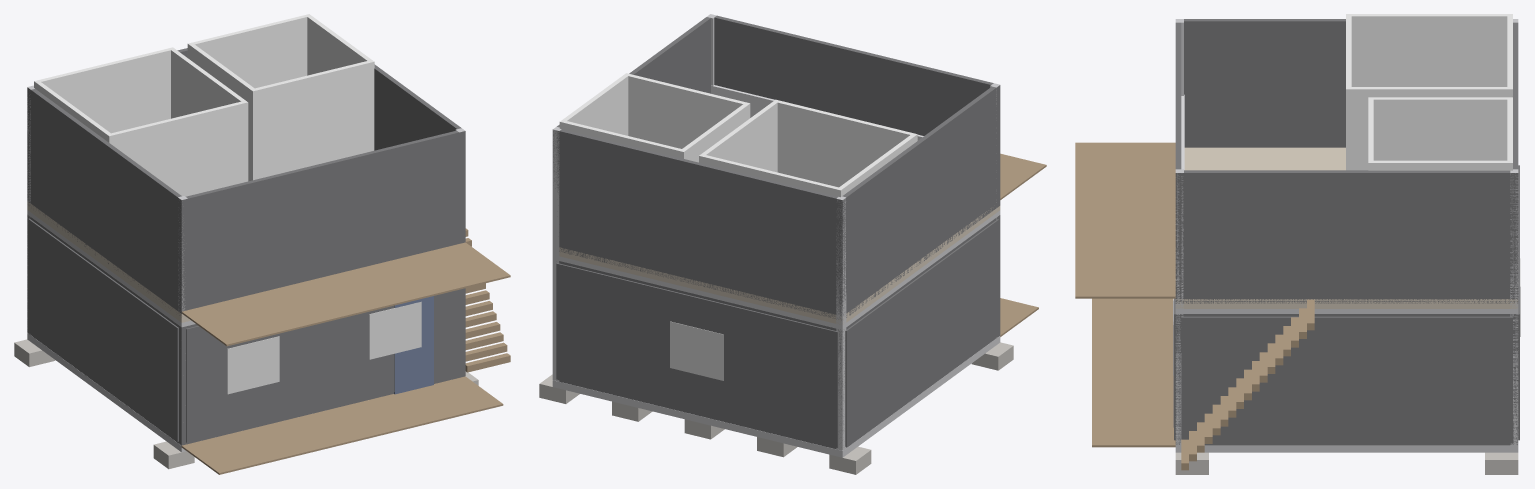
Rendered from Duplex-20-Base-CharcoalSilver-LOD3.glb.
3 renders of one model, left to right at view 1: azimuth 30°, elevation 25°; view 2: azimuth 150°, elevation 25°; view 3: azimuth 270°, elevation 25°, orthographic. The views are drawn at different scales.
Parts seen in each view (by area): view 1: ExteriorShellUpper, ExteriorPanelsStandard, StudyUpper, BedroomUpper, BalconyUpper, BalconyGround, WindowsStandard, StaircaseExternal, ExteriorShell, EntryDoor, FoundationBlocks, FloorUpper (+3 smaller); view 2: ExteriorShellUpper, ExteriorPanelsStandard, BedroomUpper, StudyUpper, FloorUpper, VerticalStructure, FoundationBlocks, BaseFrame, ExteriorShell, WindowsStandard, TopFrame, BalconyUpper (+2 smaller); view 3: ExteriorShellUpper, ExteriorPanelsStandard, BalconyUpper, BedroomUpper, BalconyGround, StudyUpper, FloorUpper, StaircaseExternal, ExteriorShell, VerticalStructure, BaseFrame, TopFrame (+1 smaller).
Boxes of the visible parts, x1,y1,x2,y2 form: ExteriorShellUpper: [27, 48, 465, 315]; ExteriorPanelsStandard: [28, 218, 461, 442]; StudyUpper: [187, 14, 374, 181]; BedroomUpper: [34, 47, 248, 196]; BalconyUpper: [181, 242, 510, 346]; BalconyGround: [181, 376, 503, 474]; WindowsStandard: [227, 301, 421, 394]; StaircaseExternal: [465, 228, 510, 372]; ExteriorShell: [27, 214, 465, 445]; EntryDoor: [394, 296, 433, 394]; FoundationBlocks: [14, 339, 478, 469]; FloorUpper: [27, 201, 190, 322]; ExteriorShellUpper: [553, 15, 1000, 320]; ExteriorPanelsStandard: [556, 219, 999, 447]; BedroomUpper: [699, 99, 917, 197]; StudyUpper: [559, 73, 750, 162]; FloorUpper: [559, 206, 1000, 324]; VerticalStructure: [552, 14, 999, 450]; FoundationBlocks: [539, 342, 1013, 474]; BaseFrame: [552, 336, 1000, 457]; ExteriorShell: [559, 215, 1000, 448]; WindowsStandard: [670, 321, 723, 380]; TopFrame: [559, 210, 1000, 329]; BalconyUpper: [1000, 153, 1046, 199]; ExteriorShellUpper: [1175, 19, 1518, 303]; ExteriorPanelsStandard: [1174, 165, 1519, 443]; BalconyUpper: [1075, 142, 1175, 298]; BedroomUpper: [1346, 14, 1512, 170]; BalconyGround: [1092, 298, 1175, 447]; StudyUpper: [1368, 97, 1512, 170]; FloorUpper: [1176, 147, 1518, 308]; StaircaseExternal: [1181, 299, 1314, 470]; ExteriorShell: [1175, 314, 1518, 445]; VerticalStructure: [1175, 19, 1518, 445]; BaseFrame: [1175, 445, 1518, 452]; TopFrame: [1175, 309, 1518, 313].
Bounding box in the file's own units: 7.94 × 6 × 8.
